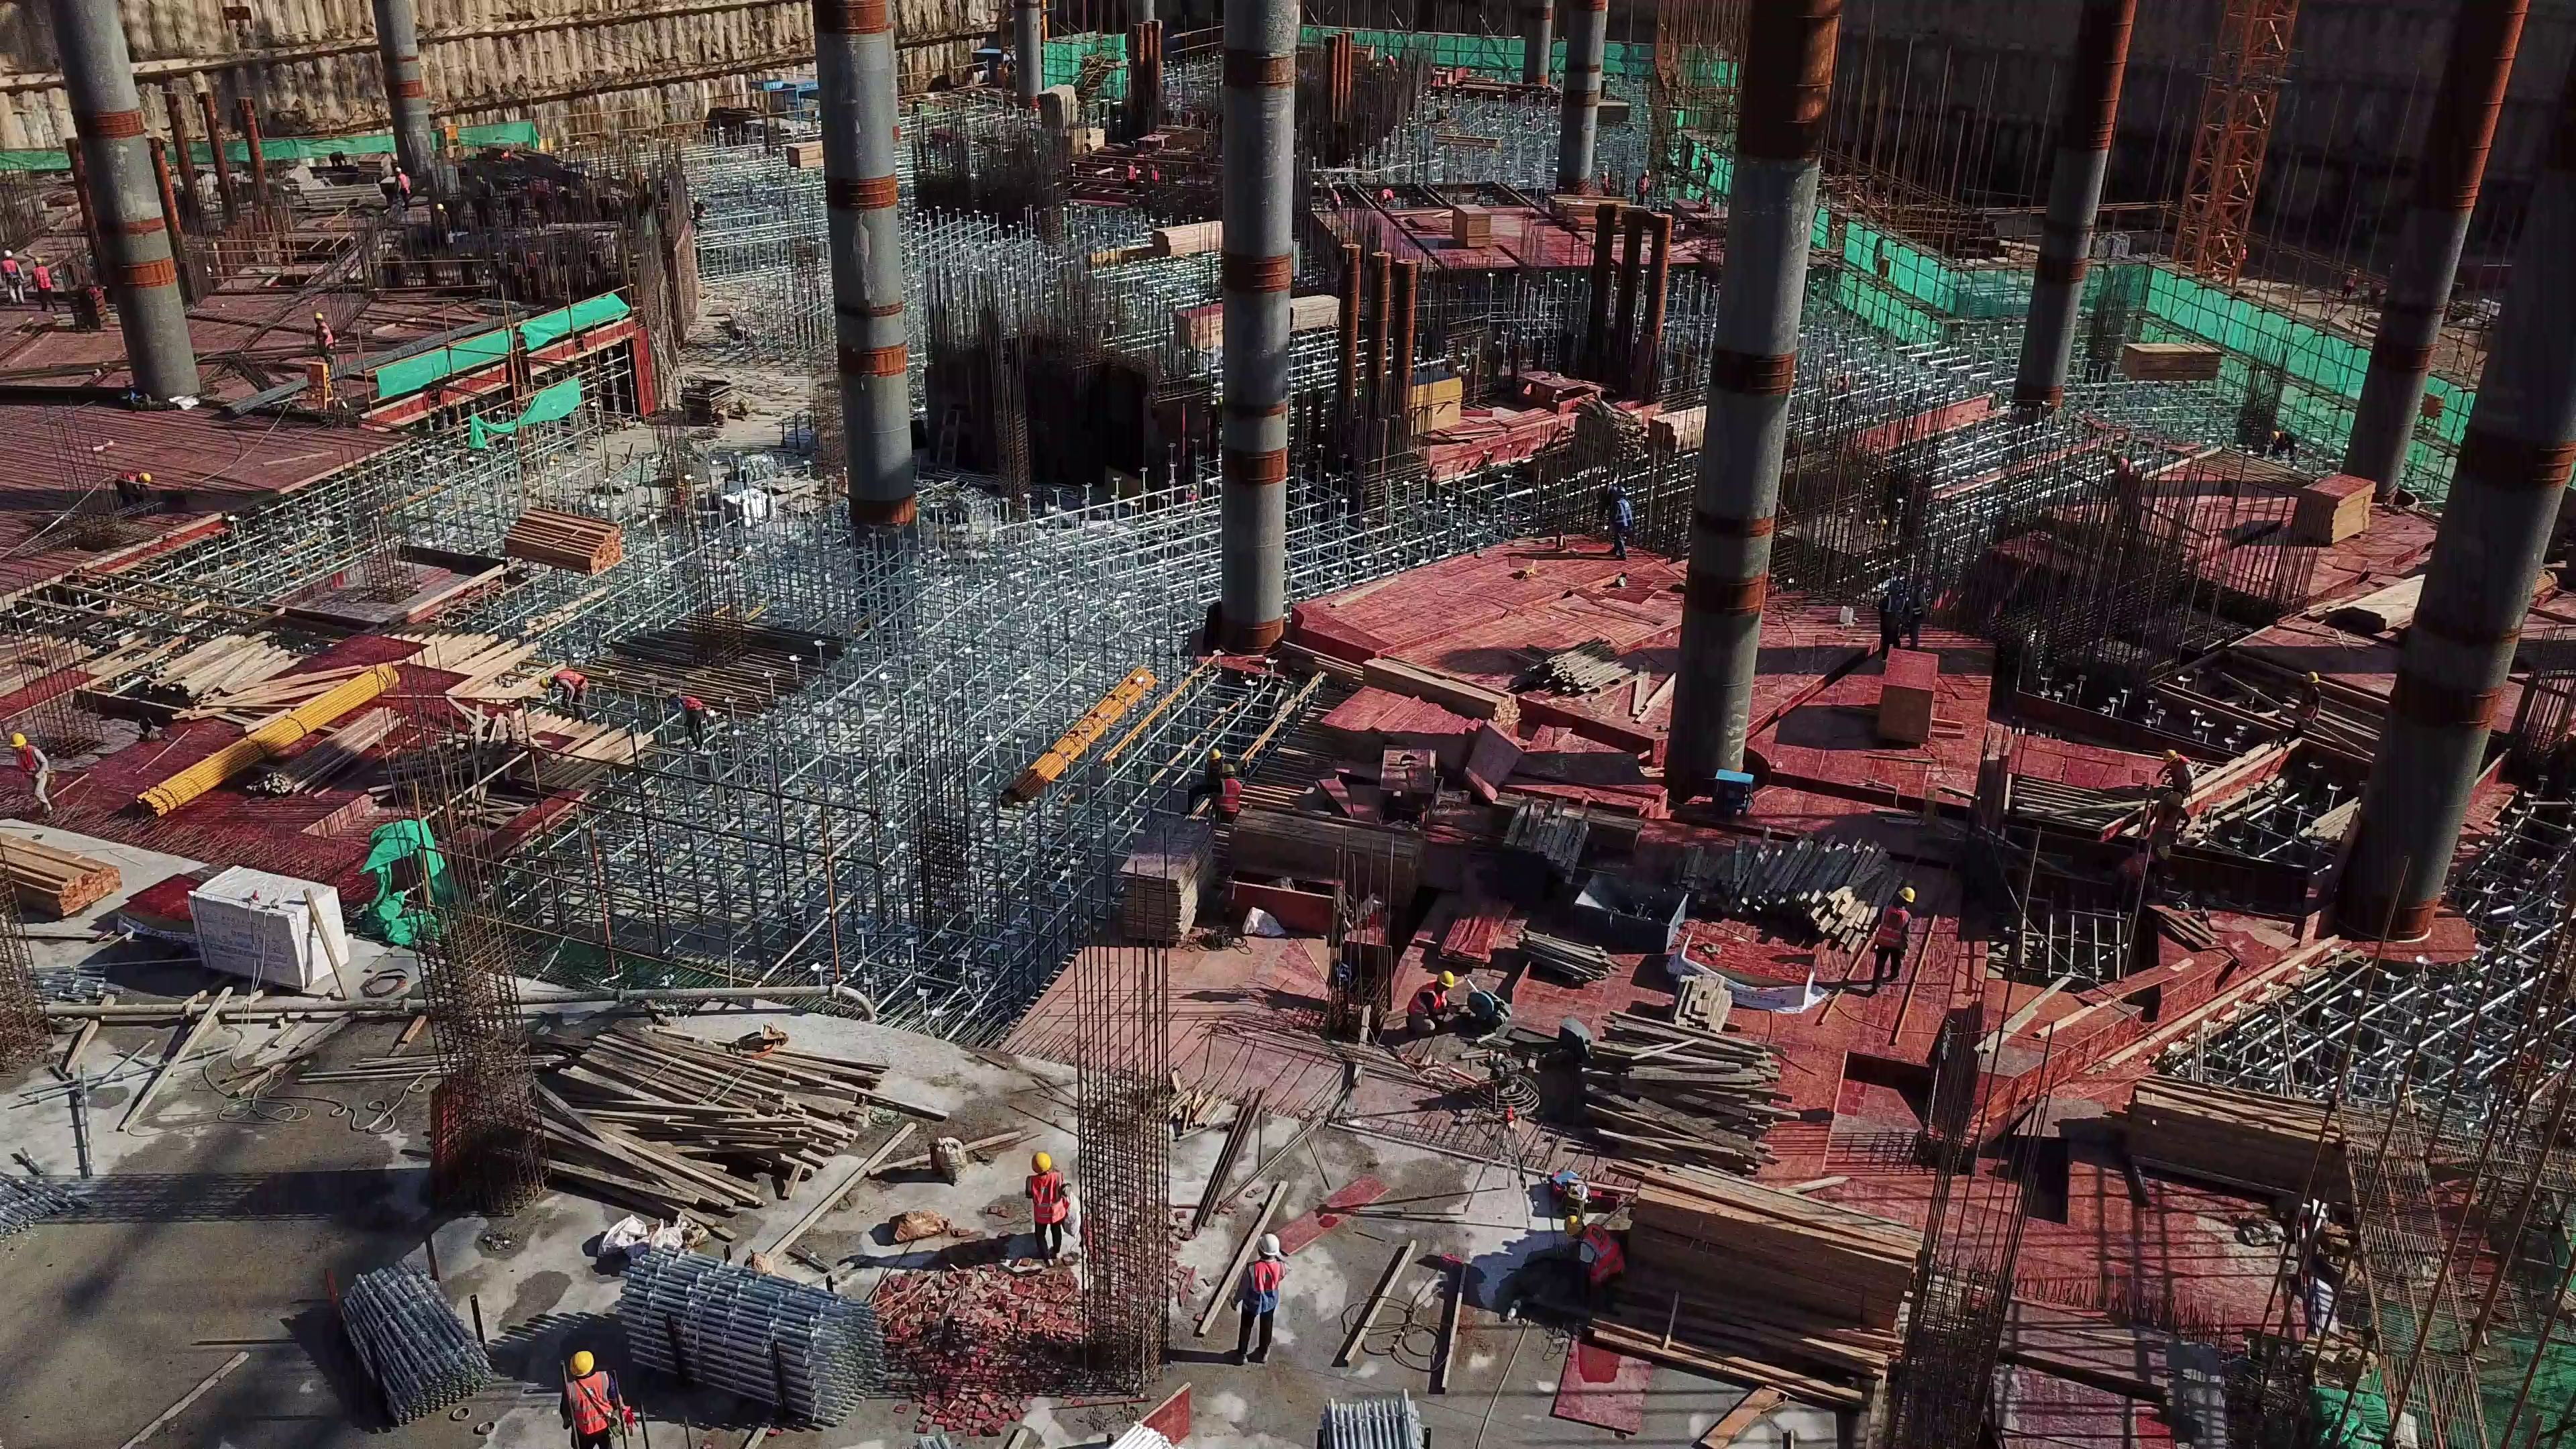board: (1239, 810, 1419, 901), (1100, 816, 1208, 959), (1348, 690, 1470, 767), (2302, 473, 2371, 545), (1877, 657, 1935, 739), (1167, 303, 1220, 365), (1381, 751, 1427, 805), (1452, 205, 1493, 253)
cutter: (1463, 981, 1514, 1031)
helmet: (565, 1352, 598, 1377), (1025, 1154, 1051, 1176), (6, 726, 31, 748), (1254, 1235, 1279, 1258), (1898, 885, 1917, 910), (1437, 971, 1456, 989), (1564, 1211, 1578, 1234), (1207, 749, 1222, 762), (1220, 764, 1235, 775)
person: (1226, 1235, 1293, 1375), (559, 1351, 625, 1449), (1020, 1150, 1074, 1263), (1865, 882, 1918, 990), (1562, 1212, 1625, 1301), (9, 729, 54, 814), (1402, 969, 1455, 1038), (2099, 445, 2139, 532), (2115, 847, 2170, 900), (665, 686, 708, 753), (2286, 669, 2323, 741), (2146, 793, 2189, 855), (540, 672, 589, 722), (1873, 584, 1902, 661), (1901, 576, 1930, 651), (1189, 748, 1222, 813), (1605, 489, 1633, 559), (2157, 746, 2195, 794), (310, 312, 341, 364), (28, 258, 56, 317), (1, 248, 25, 305), (1219, 764, 1242, 821), (115, 471, 153, 501), (391, 165, 413, 212)
scaffold: (609, 1247, 882, 1442), (330, 1259, 492, 1424), (1304, 1383, 1430, 1449)
vest: (562, 1378, 618, 1445), (1869, 904, 1922, 954), (1239, 1256, 1281, 1314), (1580, 1226, 1621, 1281), (1397, 980, 1446, 1026), (1030, 1175, 1061, 1237), (13, 745, 44, 786), (1222, 777, 1240, 812)
wood: (1616, 1179, 1918, 1401), (513, 1026, 878, 1194), (2133, 1075, 2471, 1226), (1579, 1013, 1766, 1155), (1501, 797, 1622, 916), (1697, 849, 1881, 929), (127, 650, 314, 720), (1, 836, 133, 931), (1534, 643, 1683, 720), (502, 499, 635, 581), (1639, 398, 1700, 454), (1150, 220, 1224, 256)
